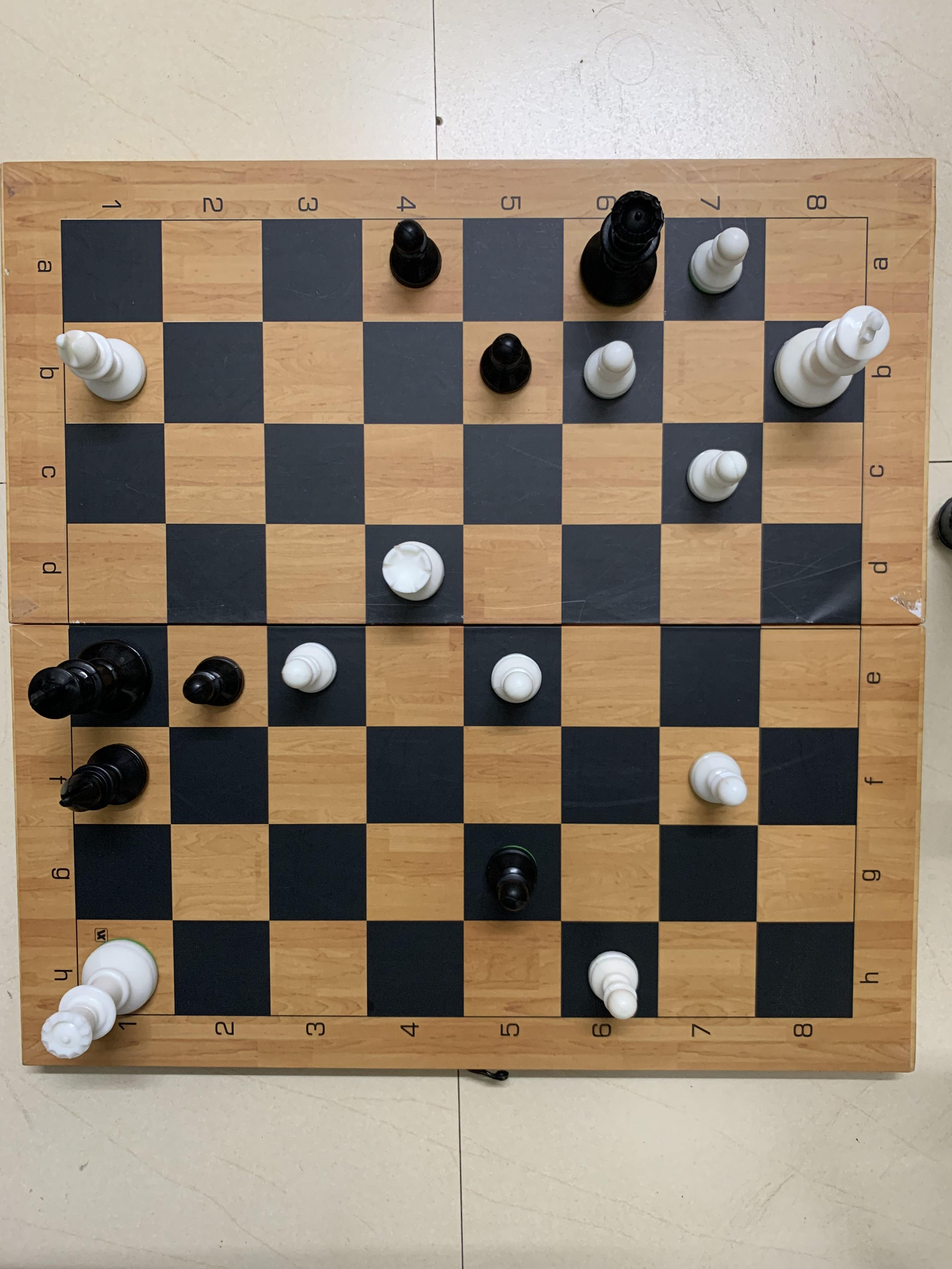black_bishop: (39, 740, 156, 823)
black_king: (20, 627, 159, 735)
black_pawn: (455, 320, 551, 410), (471, 831, 560, 925), (373, 213, 459, 308), (167, 633, 258, 721)
white_bishop: (47, 323, 157, 419)
white_king: (773, 293, 902, 414)
white_pawn: (671, 738, 776, 833), (675, 217, 770, 312), (567, 935, 658, 1031), (472, 634, 566, 722), (570, 331, 663, 411), (271, 633, 360, 711), (674, 441, 760, 518)
white_queen: (30, 922, 169, 1065)
white_rook: (375, 537, 454, 608)
